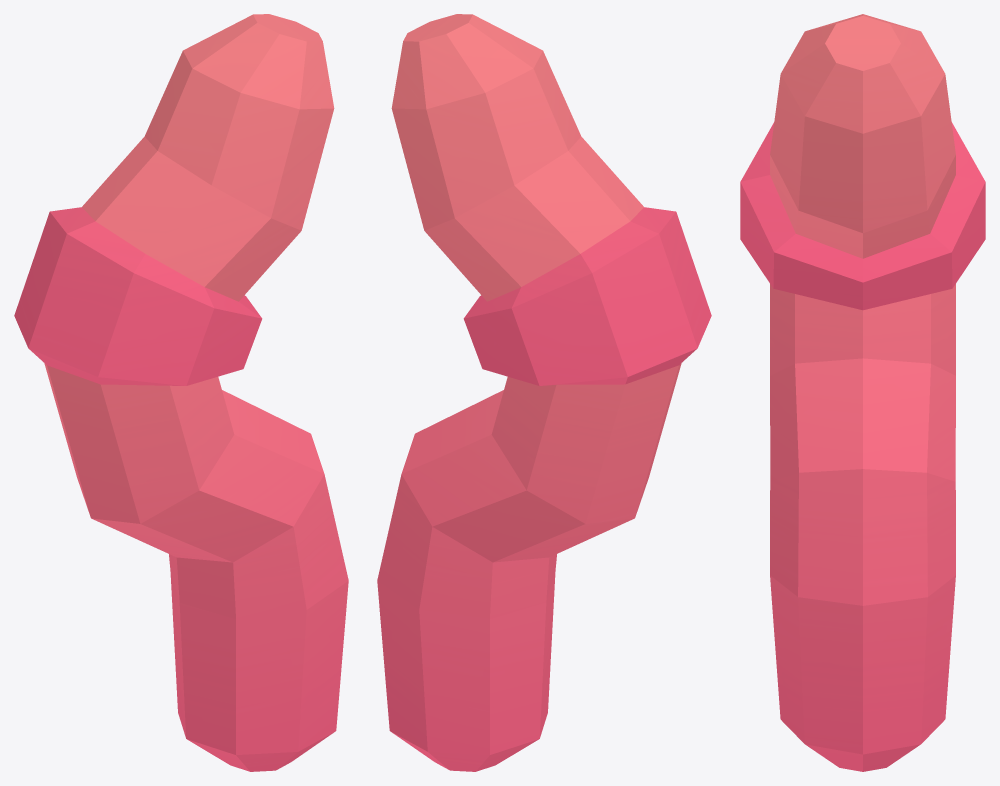
The model's file is Worm.glb.
3 views of the same model, side by side, from view 1: azimuth 30°, elevation 25°; view 2: azimuth 150°, elevation 25°; view 3: azimuth 270°, elevation 25° (orthographic).
Visible parts, largest first — view 1: Worm; view 2: Worm; view 3: Worm.
Boxes of the visible parts, bbox=[...] form: Worm: bbox=[14, 14, 348, 771]; Worm: bbox=[377, 14, 711, 771]; Worm: bbox=[740, 14, 985, 771].
Bounding box in the file's own units: 0.2309 × 0.5225 × 0.1566.
Materials: 1 (1 with a texture image).
